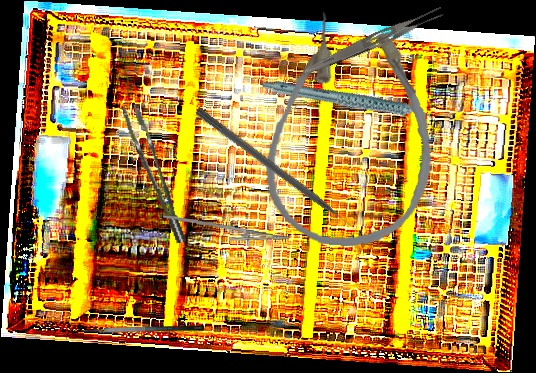Cannula: (259, 8, 444, 253)
Dressing Forceps: (302, 3, 446, 81)
Handpiece: (260, 45, 439, 160)
Needle Holder: (161, 213, 290, 251)
Pusher: (193, 106, 361, 237)
Spatula Surgical: (66, 324, 204, 343)
Tissue Forceps: (121, 100, 187, 249)
